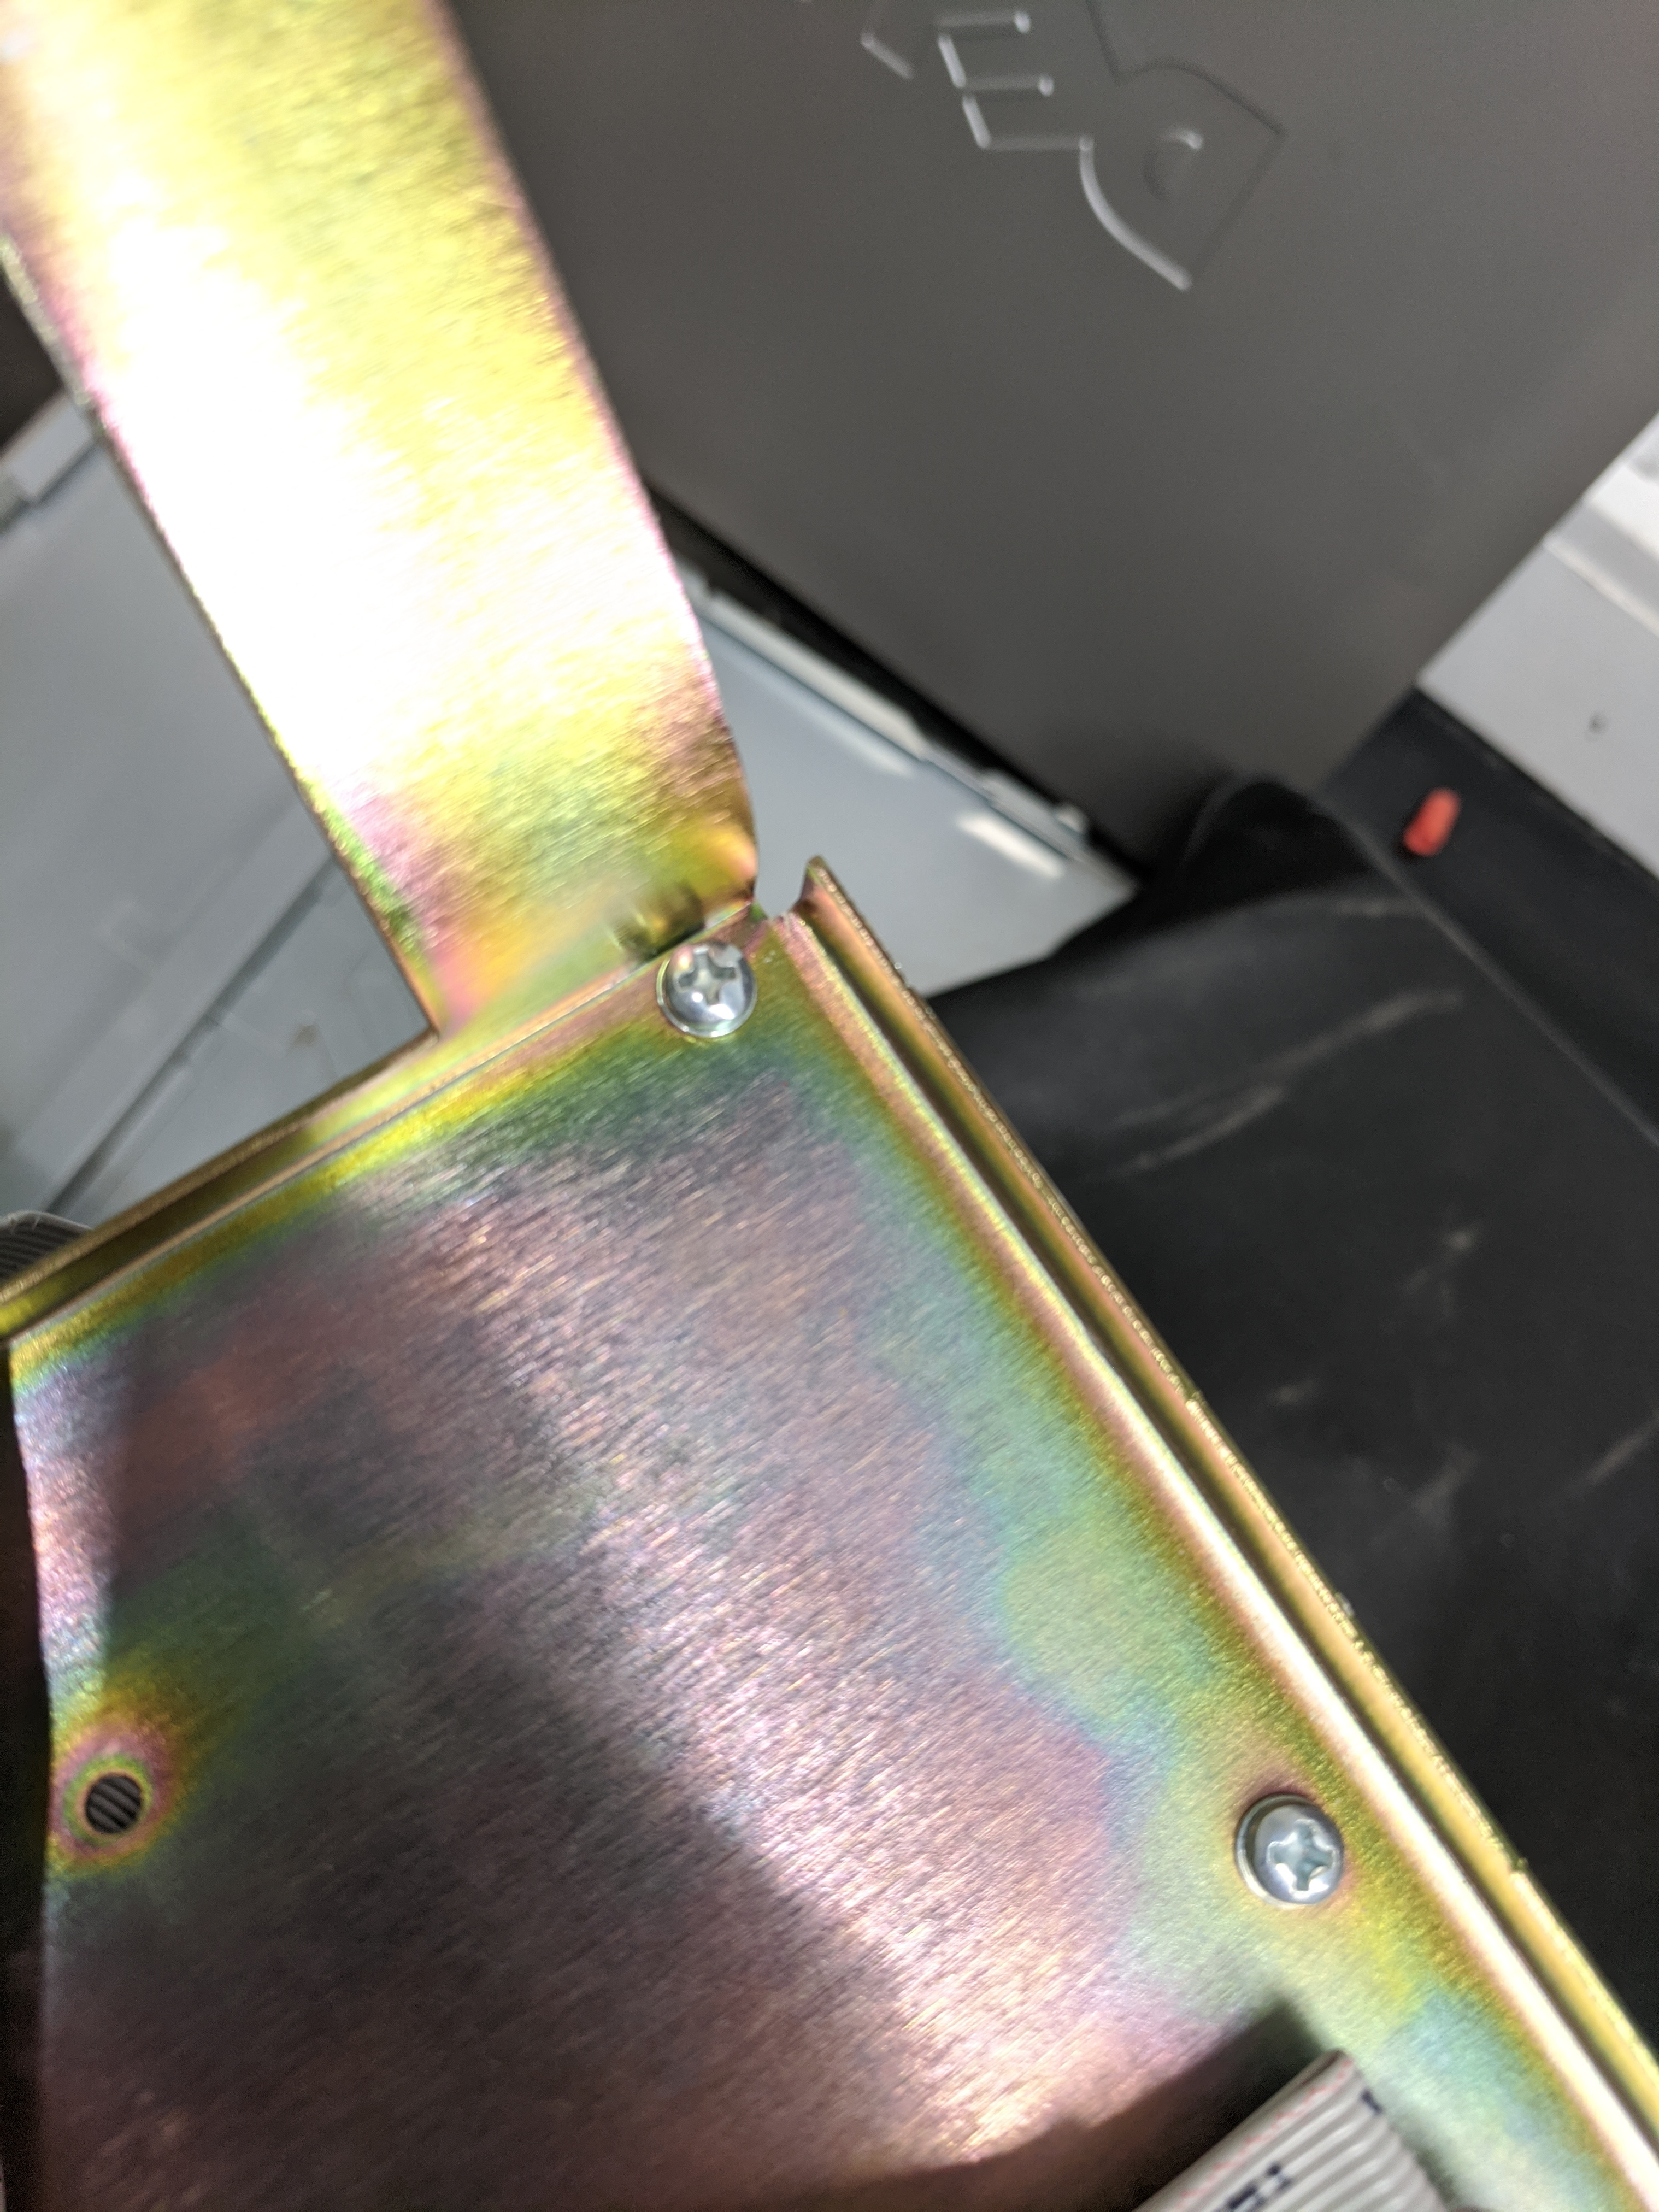cross_recessed_screw: (1230, 1787, 1351, 1905), (650, 927, 756, 1035)
